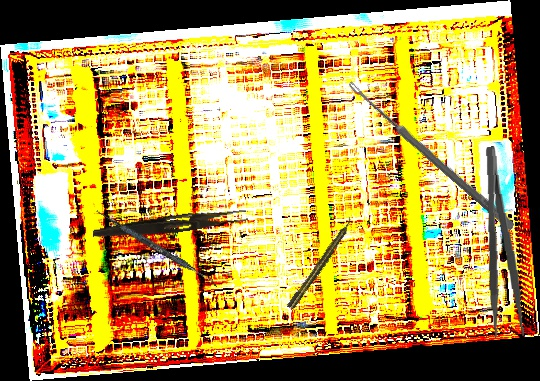Dressing Forceps: (481, 145, 526, 338), (92, 203, 248, 246)
Handpiece: (285, 215, 357, 312)
Spatula Surgical: (93, 209, 221, 287)
Surgical Spoon: (344, 79, 517, 231)
